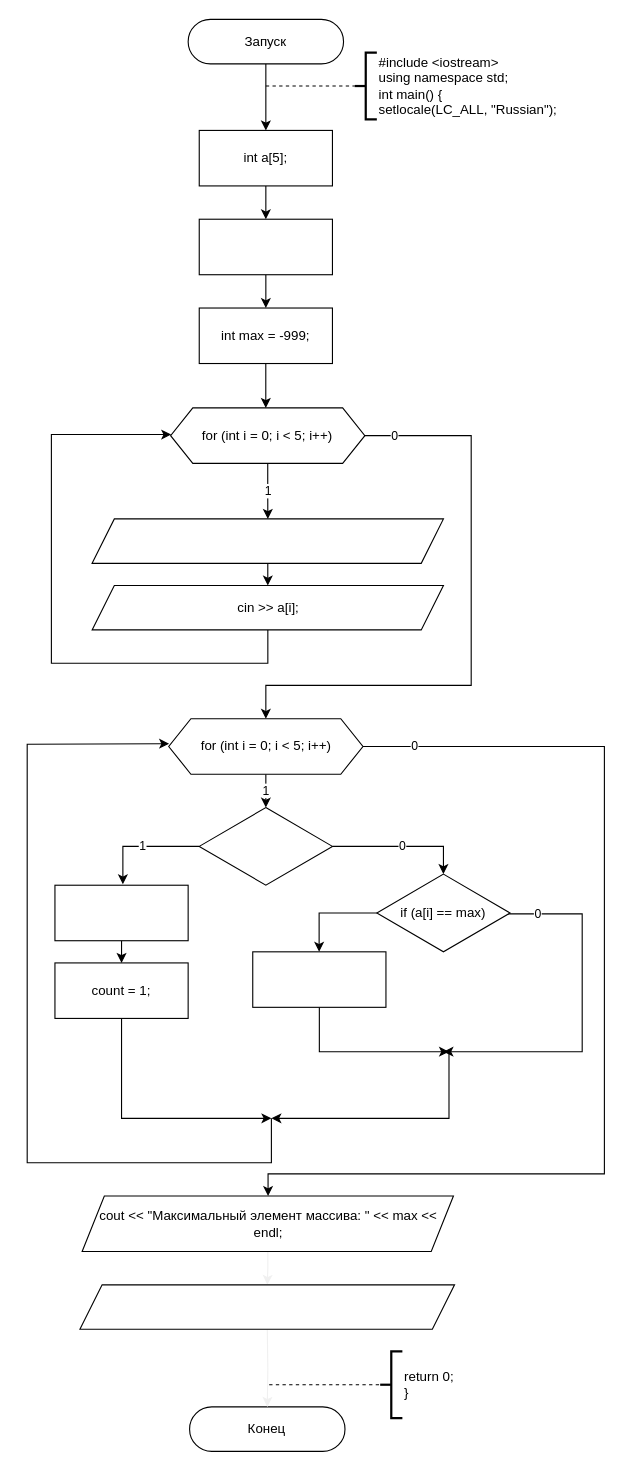
This 633x1471 diagram has some shape labels left out. The box of each missing label's shape, as (x1, y1, x2, y2) in pixels:
count++;: (252, 951, 386, 1007)
cout << "Введите элемент массива: ";: (91, 518, 443, 563)
cout << "Количество элементов с этим значением: " << count << endl;: (79, 1284, 455, 1329)
if (a[i] > max): (198, 806, 332, 885)
int count = 1;: (198, 218, 332, 275)
max = a[i];: (54, 884, 188, 941)
